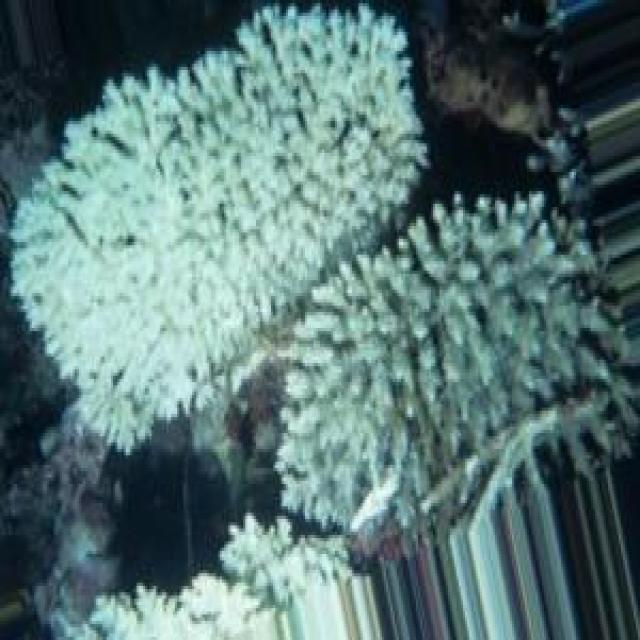bleached coral: (105, 564, 286, 640), (427, 204, 599, 283), (254, 41, 407, 124), (64, 306, 156, 436), (282, 443, 380, 535), (169, 226, 292, 293), (160, 108, 273, 175), (433, 414, 521, 500), (294, 325, 390, 398), (412, 283, 482, 373), (64, 197, 141, 261), (305, 181, 371, 252), (192, 328, 258, 388)
healthy coral: (510, 350, 578, 423)
